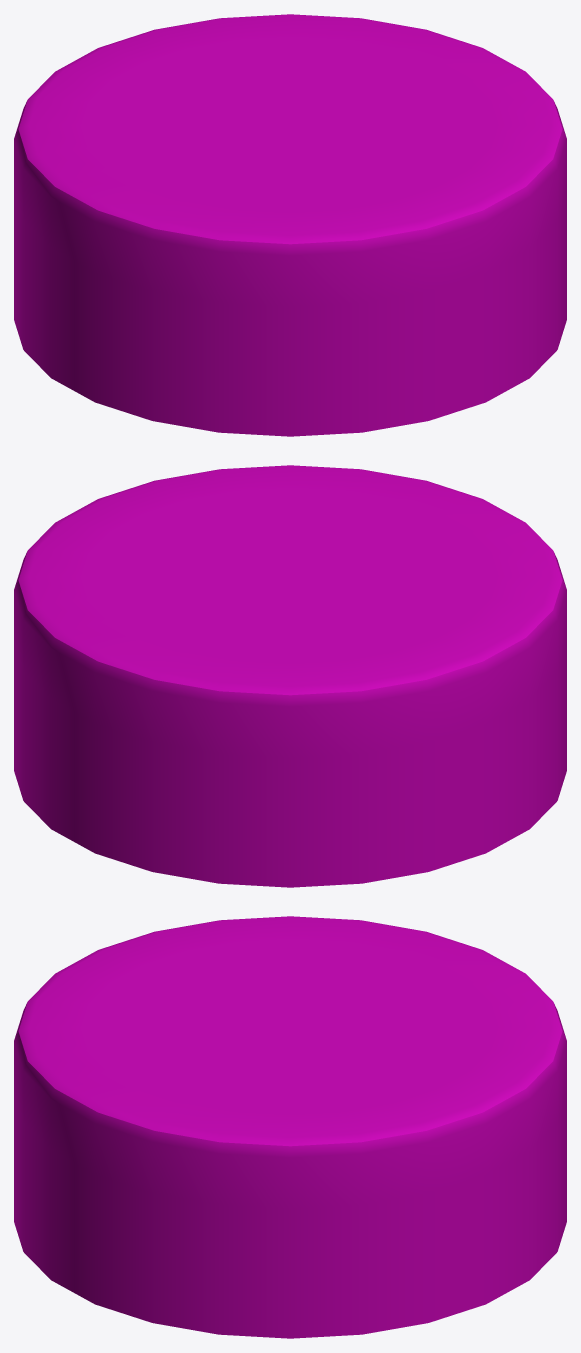
File: StandingGoop.fbx
The picture shows the model from 3 angles, top to bottom: view 1: azimuth 30°, elevation 25°; view 2: azimuth 150°, elevation 25°; view 3: azimuth 270°, elevation 25°; orthographic projection.
Visible parts, largest first — view 1: pCylinder18; view 2: pCylinder18; view 3: pCylinder18.
Boxes of the visible parts, left/top/right/bottom form: pCylinder18: left=14, top=14, right=566, bottom=436; pCylinder18: left=14, top=465, right=566, bottom=887; pCylinder18: left=14, top=916, right=566, bottom=1338.
Size of the model in its own units: 110 by 42.82 by 110.
